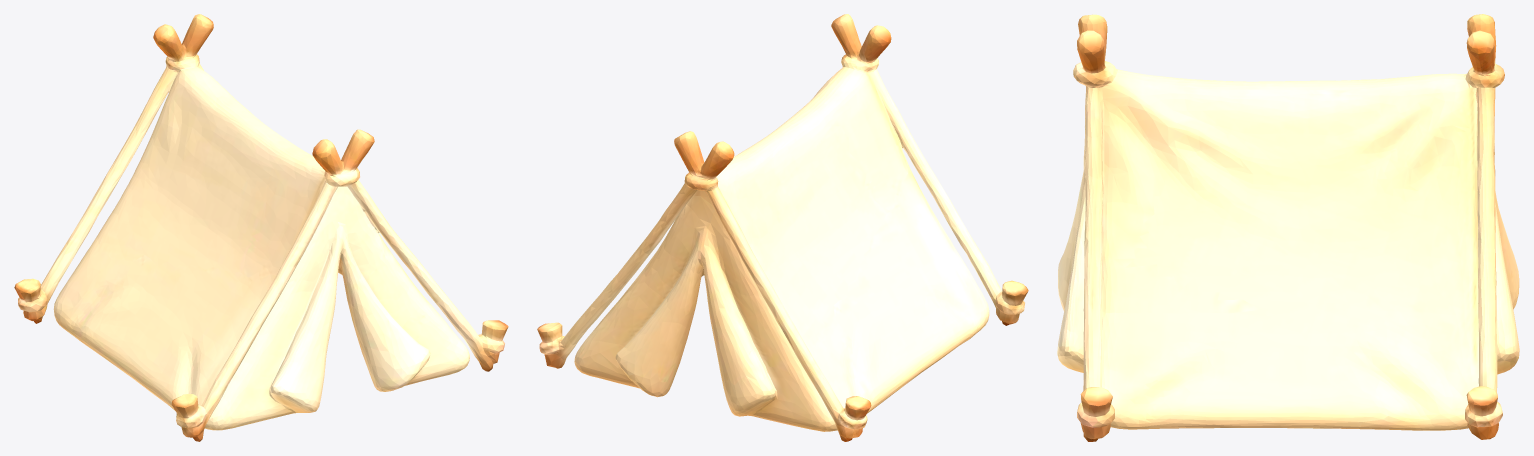
Rendered from tent.glb.
3 renders of one model, left to right at view 1: azimuth 30°, elevation 25°; view 2: azimuth 150°, elevation 25°; view 3: azimuth 270°, elevation 25°, orthographic. The views are drawn at different scales.
Visible parts, largest first — view 1: tripo_mesh_c9a9dcbd-fe87-4063-90a9-d5d387a59b18; view 2: tripo_mesh_c9a9dcbd-fe87-4063-90a9-d5d387a59b18; view 3: tripo_mesh_c9a9dcbd-fe87-4063-90a9-d5d387a59b18.
Part boxes in pixels (x1,y1,x2,y2): tripo_mesh_c9a9dcbd-fe87-4063-90a9-d5d387a59b18: [14, 14, 508, 441]; tripo_mesh_c9a9dcbd-fe87-4063-90a9-d5d387a59b18: [537, 14, 1028, 441]; tripo_mesh_c9a9dcbd-fe87-4063-90a9-d5d387a59b18: [1057, 14, 1519, 441].
Bounding box in the file's own units: 1.28 × 1 × 1.26.
1 material, 1 textured.
